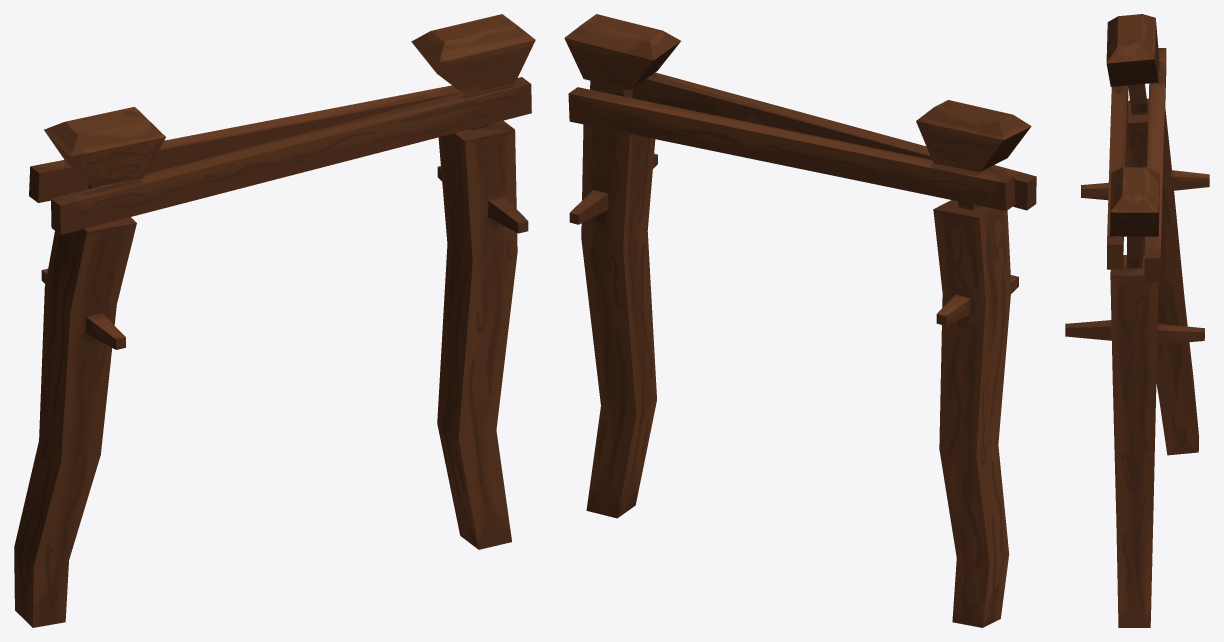
The model's file is vigas_madera.fbx.
The picture shows the model from 3 angles, left to right: view 1: azimuth 30°, elevation 25°; view 2: azimuth 150°, elevation 25°; view 3: azimuth 270°, elevation 25°; orthographic projection. The views are drawn at different scales.
Visible parts, largest first — view 1: Vigas_madera; view 2: Vigas_madera; view 3: Vigas_madera.
Boxes of the visible parts, bbox=[...] form: Vigas_madera: bbox=[14, 14, 535, 627]; Vigas_madera: bbox=[564, 14, 1036, 627]; Vigas_madera: bbox=[1065, 14, 1209, 627].
Size of the model in its own units: 4383 by 4549 by 1366.
